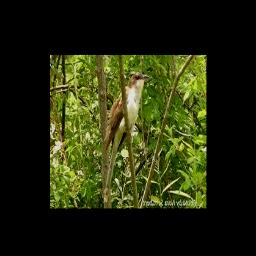Cuckoo: (104, 73, 150, 150)
